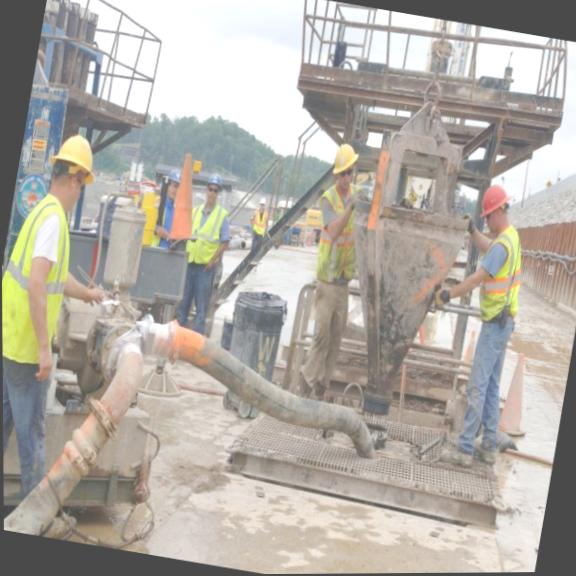safety_vest: (1, 190, 90, 374), (310, 172, 371, 280), (471, 217, 531, 326), (179, 196, 230, 267)
